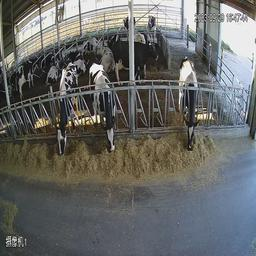cow: (85, 63, 125, 156), (174, 52, 203, 161), (110, 31, 161, 92), (54, 61, 81, 163), (14, 58, 40, 97), (94, 39, 116, 76), (69, 47, 86, 78), (45, 53, 59, 84), (144, 9, 157, 40)
